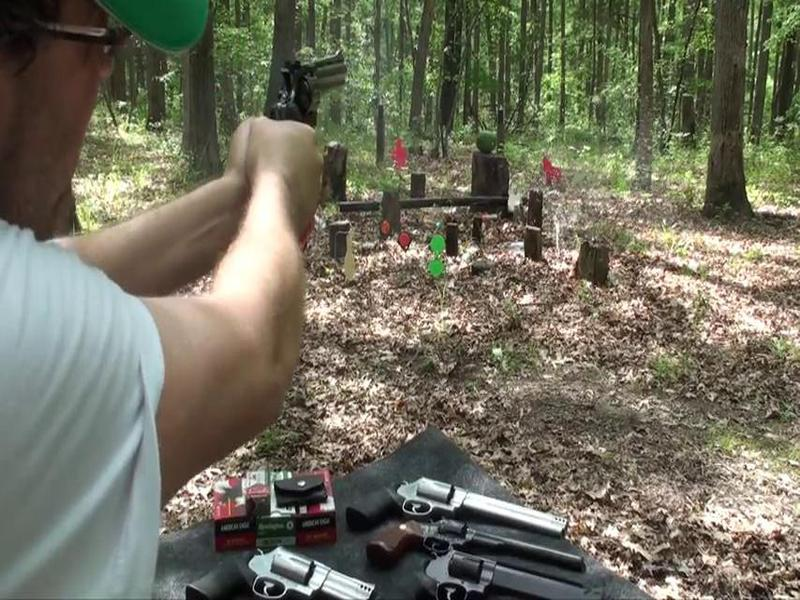Revolver: (262, 39, 359, 164)
